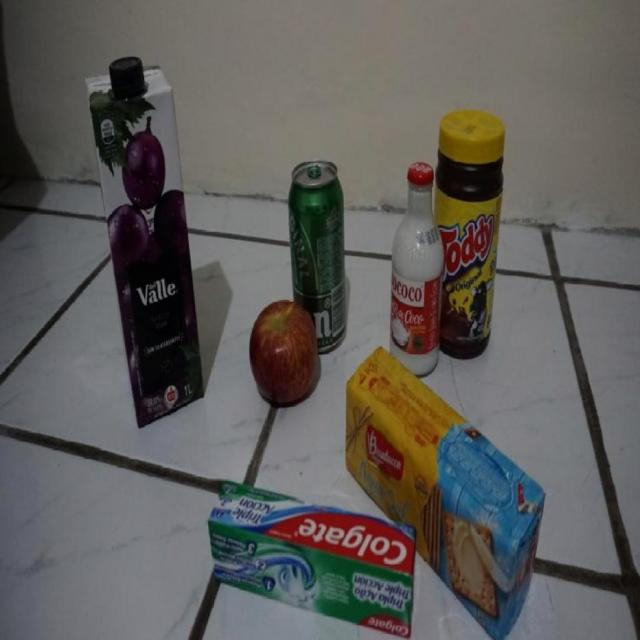Apple: (249, 297, 320, 405)
BeerCan: (288, 159, 350, 355)
ChocolatePowder: (434, 109, 508, 362)
CoconutMilk: (390, 162, 445, 380)
Cracker: (345, 345, 547, 640)
Toothpaste: (206, 477, 416, 640)
